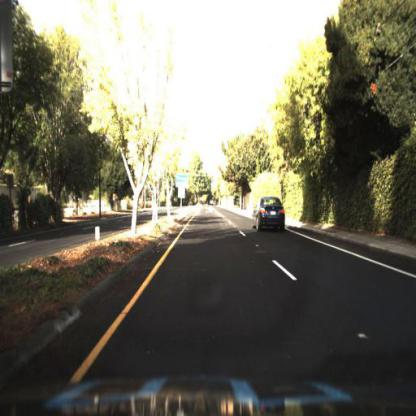car: (251, 194, 284, 229)
